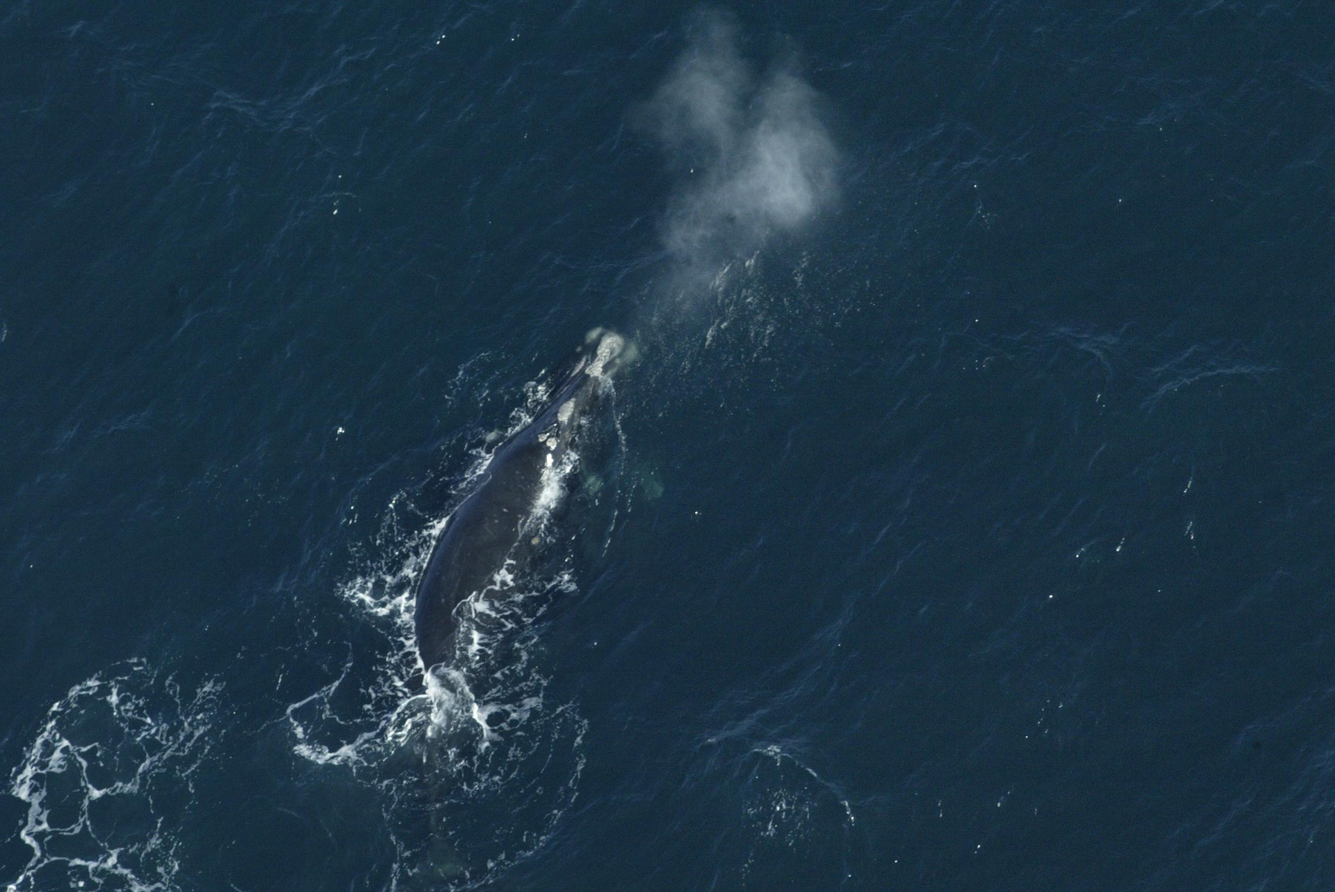whale: (372, 319, 666, 891)
